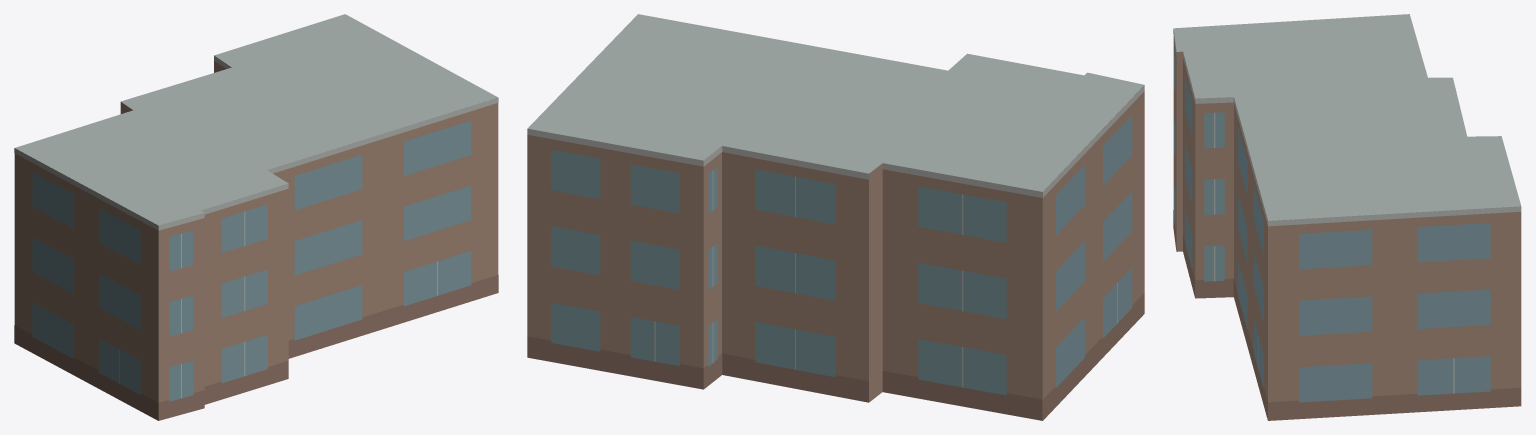
Rendered from survey-upis-32787271.glb.
3 renders of one model, left to right at view 1: azimuth 30°, elevation 25°; view 2: azimuth 150°, elevation 25°; view 3: azimuth 270°, elevation 25°, orthographic. The views are drawn at different scales.
Parts seen in each view (by area): view 1: survey-upis-32787271.tmp; view 2: survey-upis-32787271.tmp; view 3: survey-upis-32787271.tmp.
Part boxes in pixels (<box>): survey-upis-32787271.tmp: <box>14,14,498,420</box>; survey-upis-32787271.tmp: <box>527,14,1144,420</box>; survey-upis-32787271.tmp: <box>1173,14,1521,420</box>.
Size of the model in its own units: 20.33 by 9.15 by 14.44.
